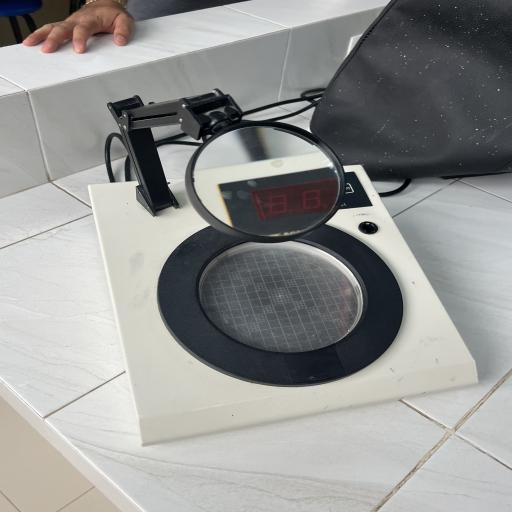Contador_Colonias_CC1: (74, 88, 494, 450)
